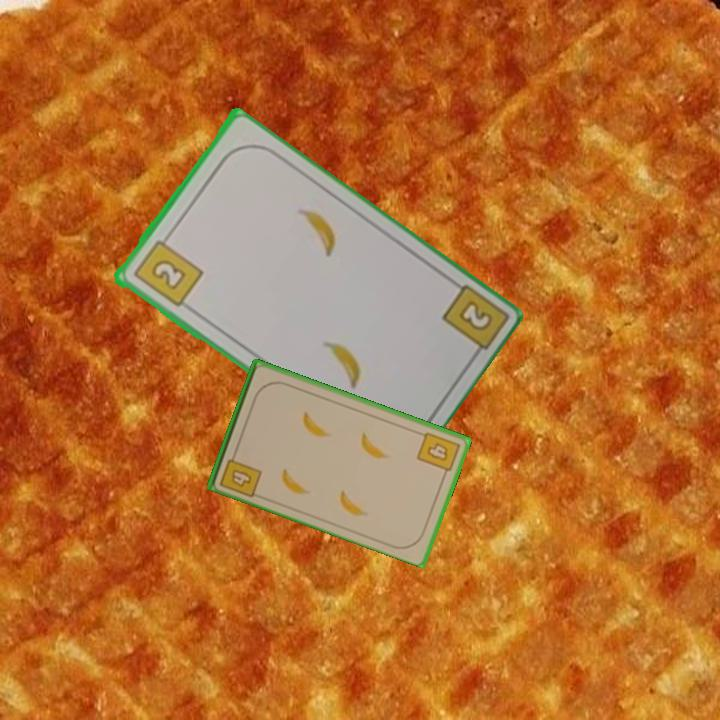2b: (129, 230, 205, 310), (454, 297, 495, 335)
4b: (413, 428, 463, 480), (216, 447, 264, 500)
